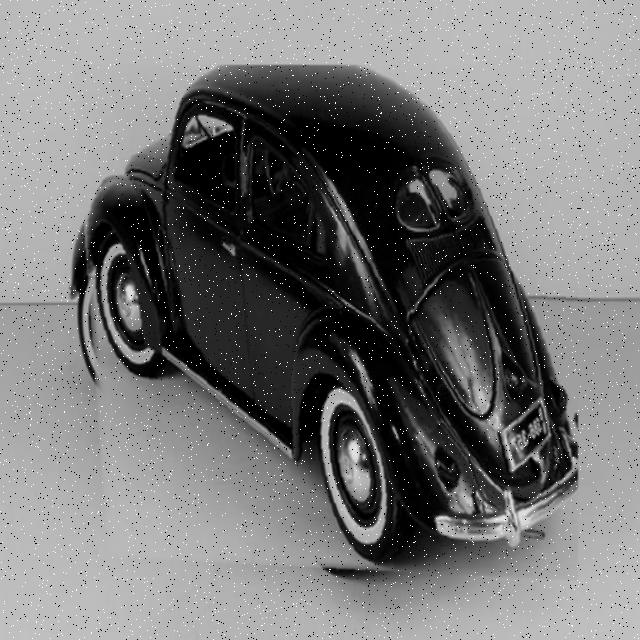car: (71, 66, 579, 584)
